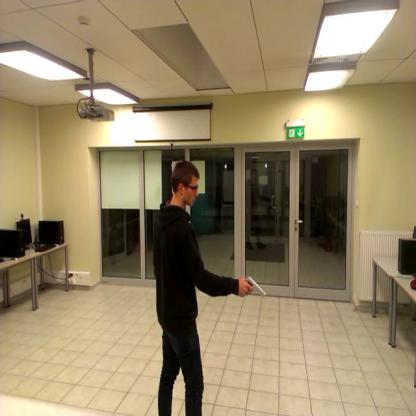Pistol: (243, 272, 268, 302)
